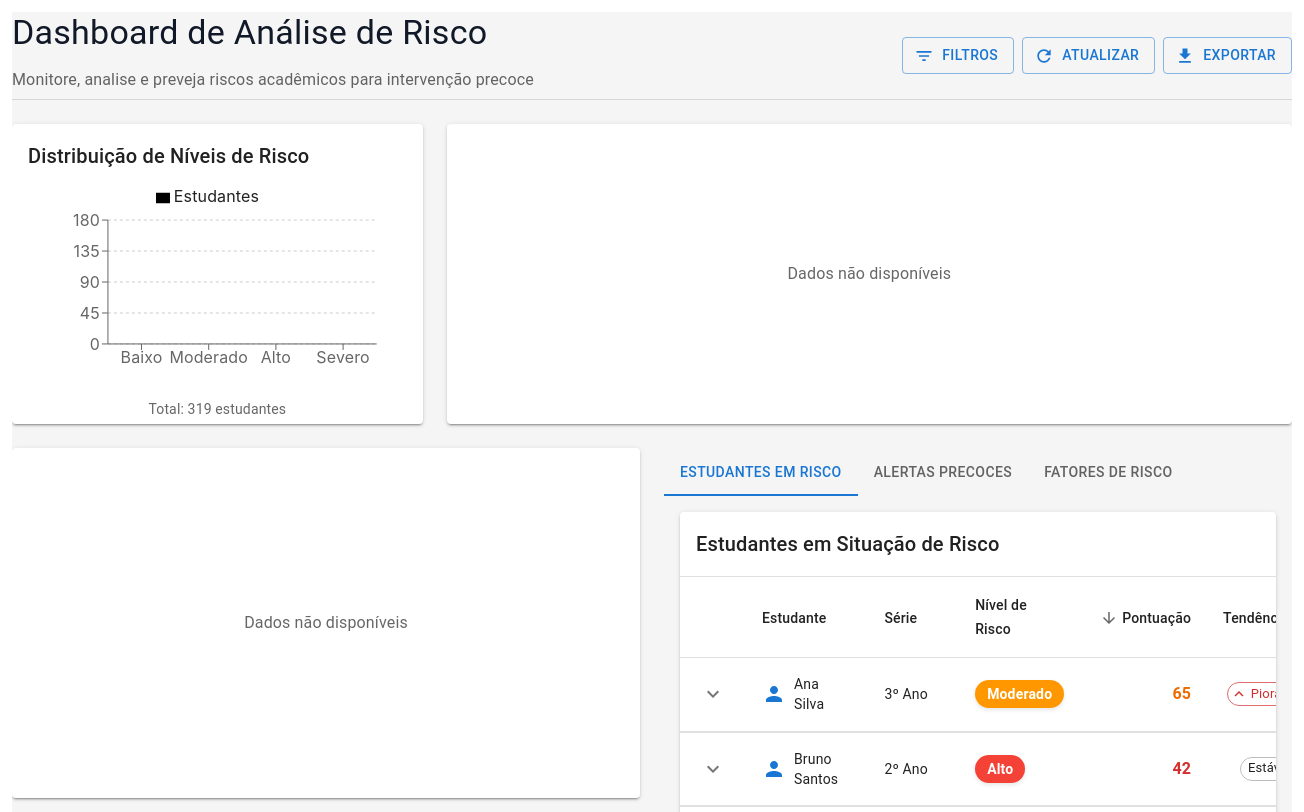
RiskAnalysisDashboard › exibe o painel de filtros ao clicar no botão
The image size is (1304, 812).
Expected: the text "Pesquisar estudante" is not shown
Clicar no botão de filtros
Click the button "Filtros": (958, 56) [902, 38, 1014, 74]
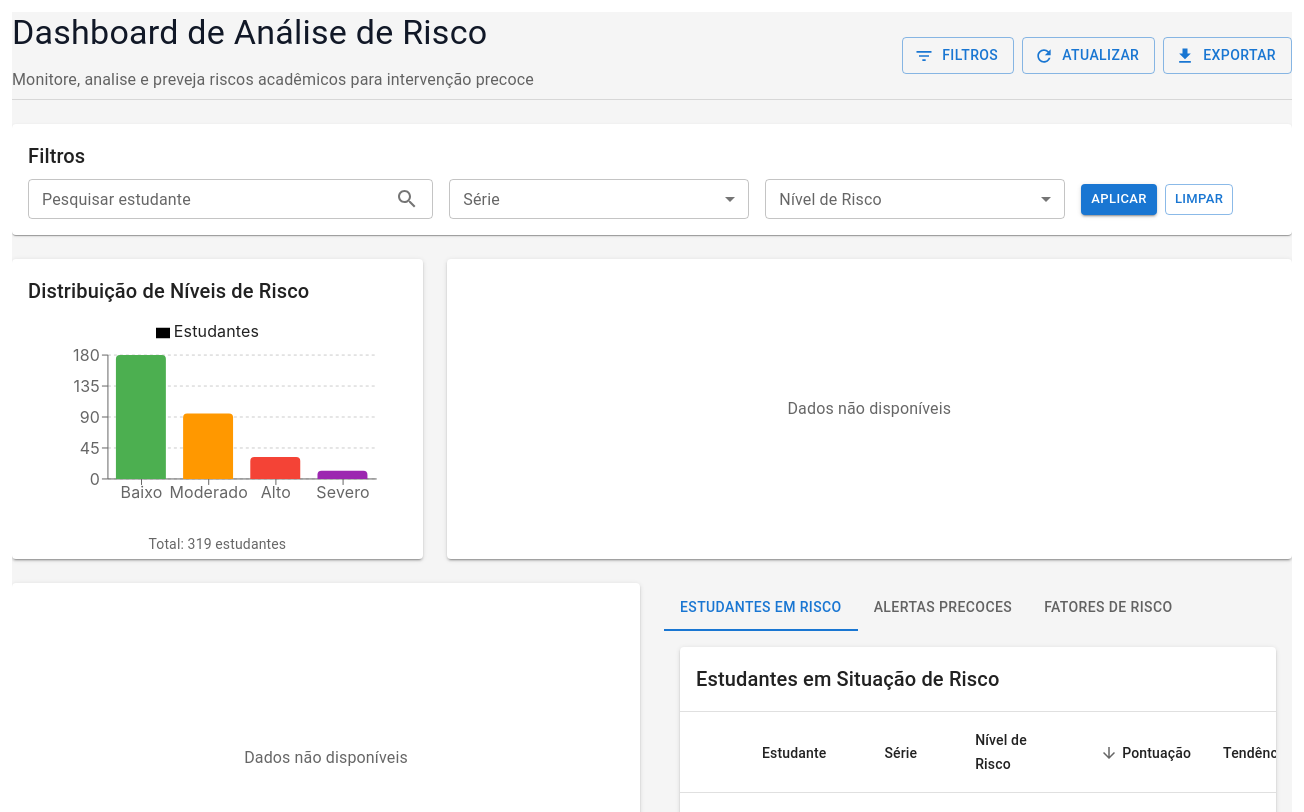
Expected: the field labelled "Pesquisar estudante" is shown, [28, 180, 387, 220]
Expected: the 1st dropdown named "Série" is shown, [449, 180, 749, 220]
Expected: the 2nd dropdown named "Nível de Risco" is shown, [765, 180, 1065, 220]
